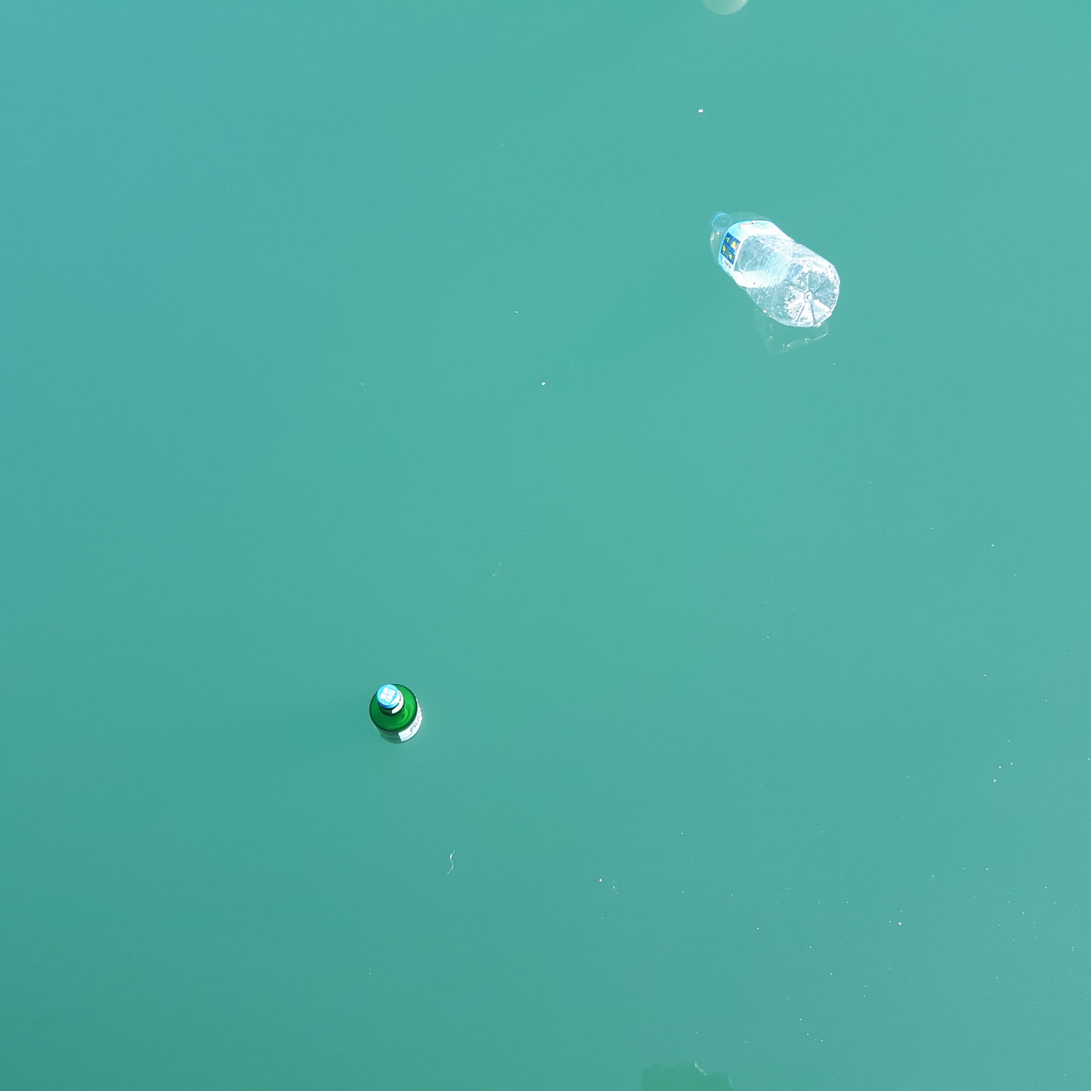sampah_terapung: (710, 212, 841, 328), (370, 684, 424, 745)
